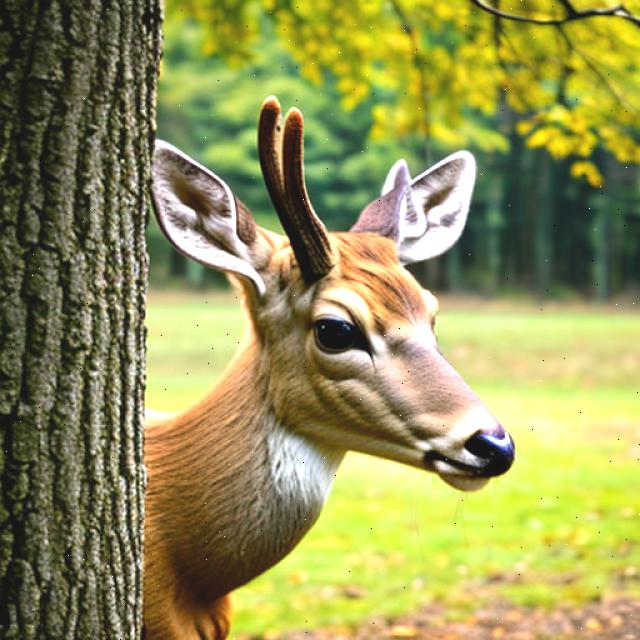deer: (140, 116, 546, 531)
